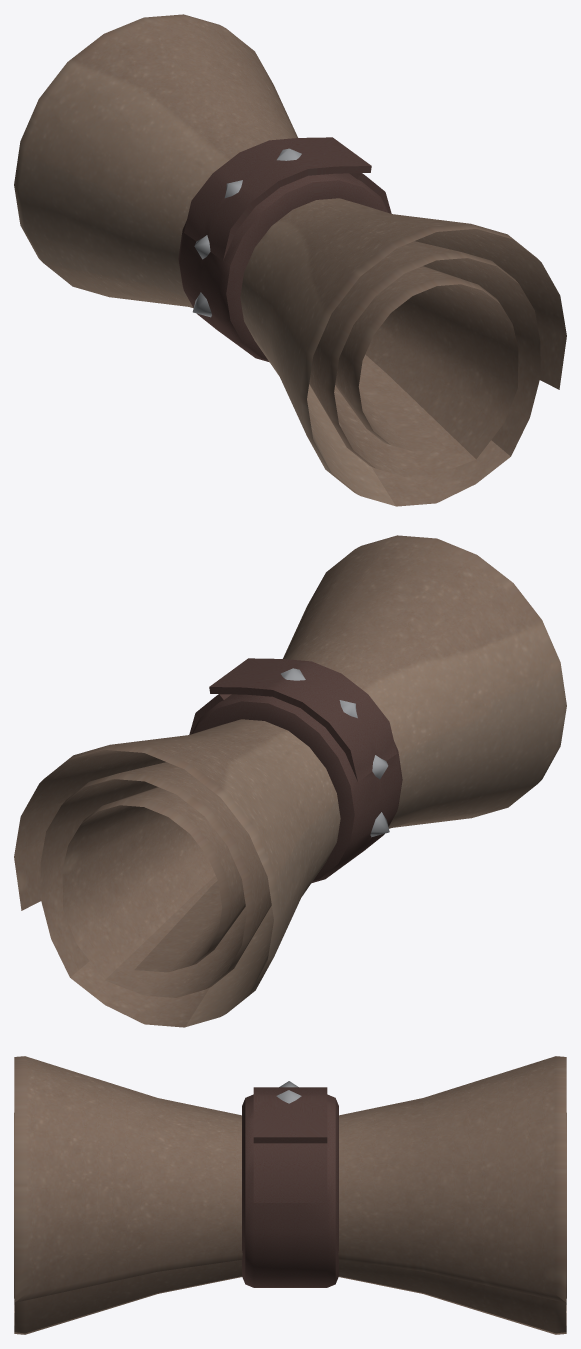
Rendered from scroll.fbx.
3 renders of one model, top to bottom at view 1: azimuth 30°, elevation 25°; view 2: azimuth 150°, elevation 25°; view 3: azimuth 270°, elevation 25°, orthographic. The views are drawn at different scales.
Visible parts, largest first — view 1: polySurface1; view 2: polySurface1; view 3: polySurface1.
Part boxes in pixels (left/top/right/bottom): polySurface1: left=14, top=14, right=566, bottom=506; polySurface1: left=14, top=535, right=566, bottom=1027; polySurface1: left=14, top=1056, right=566, bottom=1334.
Bounding box in the file's own units: 5.75 × 5.74 × 11.17.
